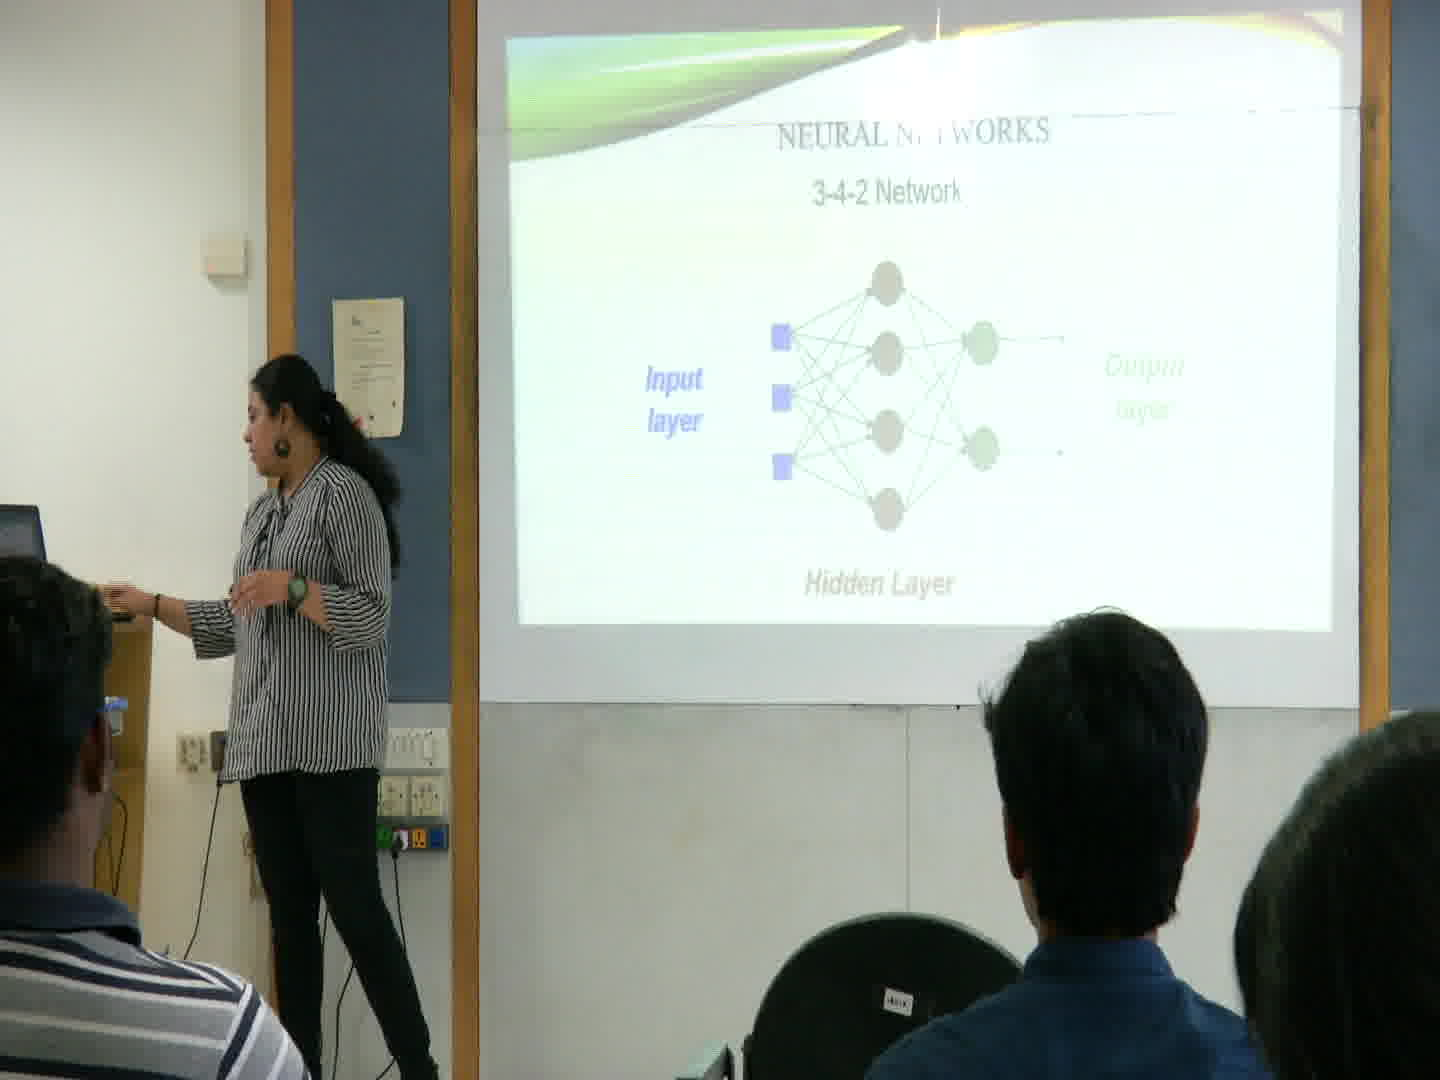fig: (762, 250, 1071, 541)
